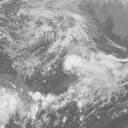cyclone: (63, 44, 116, 85)
